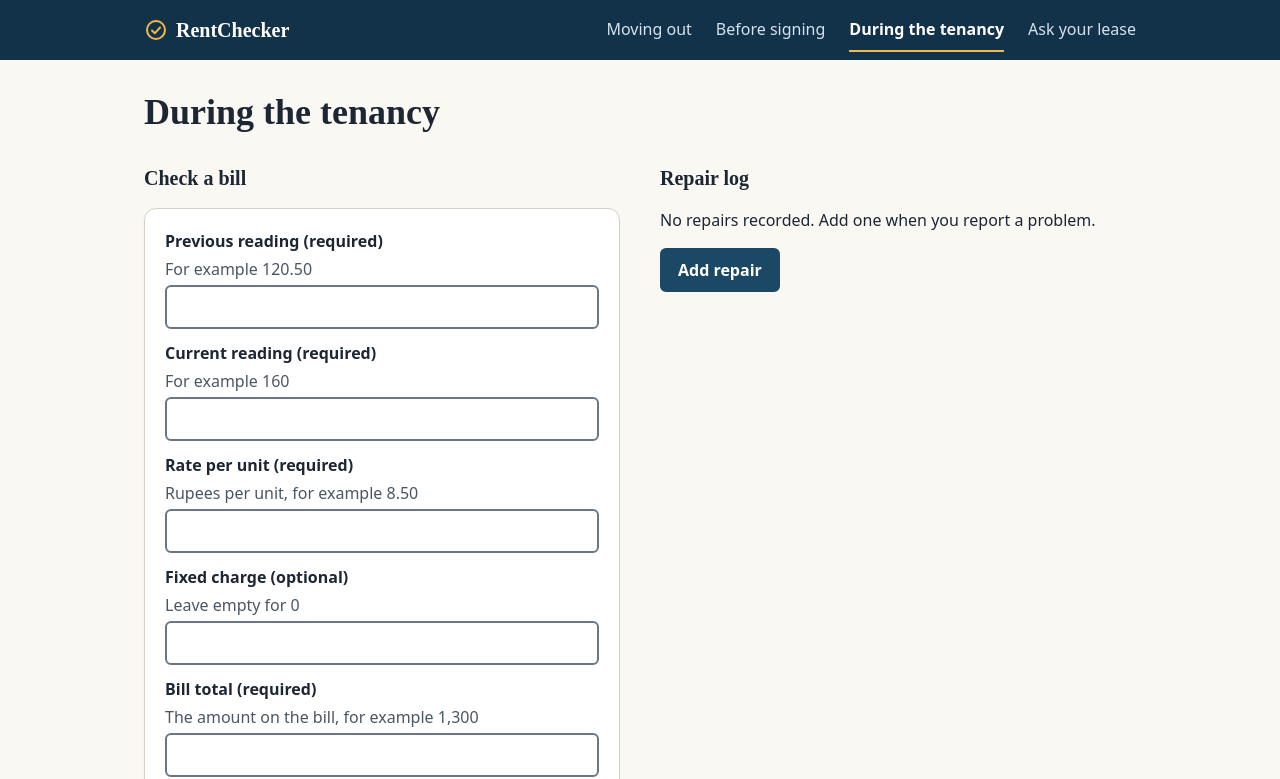
Repair log › D-5 a date that does not exist is rejected next to the field
Click the button "Add repair": (720, 270) [660,248,780,292]
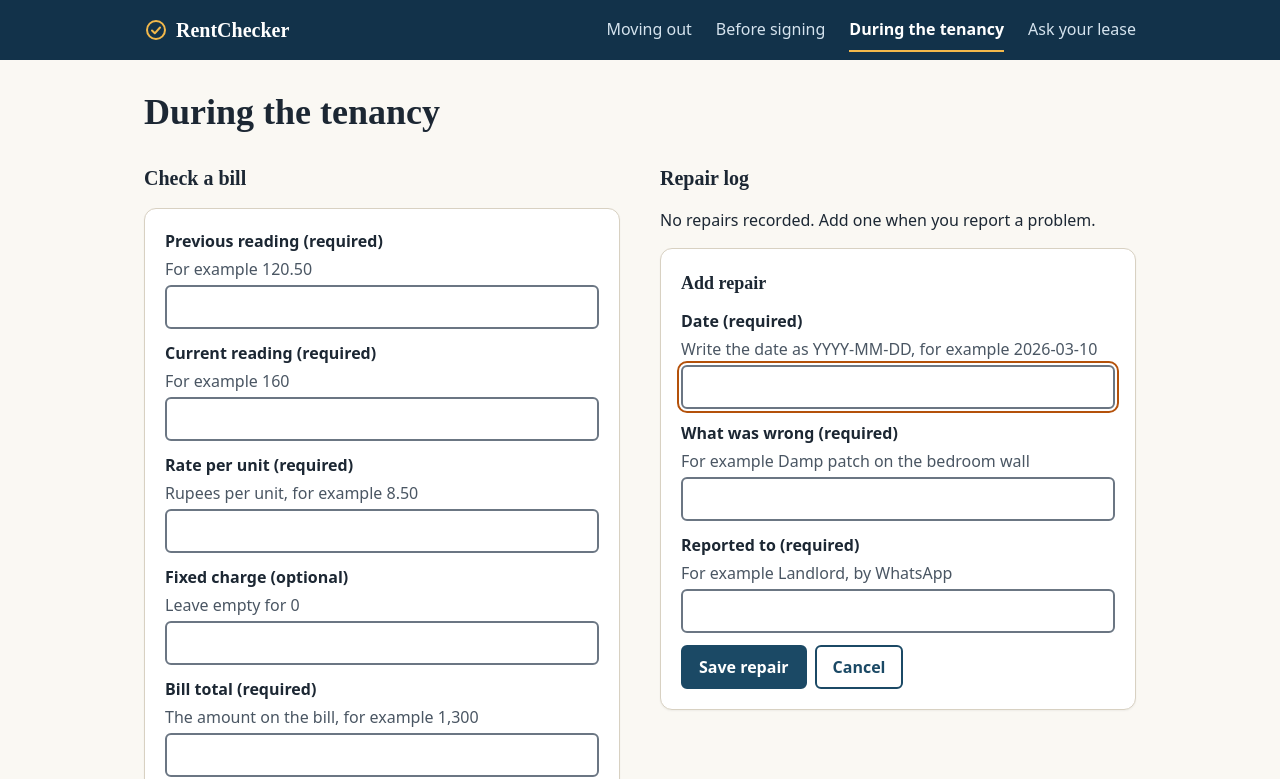
In the field labelled "Date (required)": (898, 387) [681,365,1115,409], type "2026-02-30"
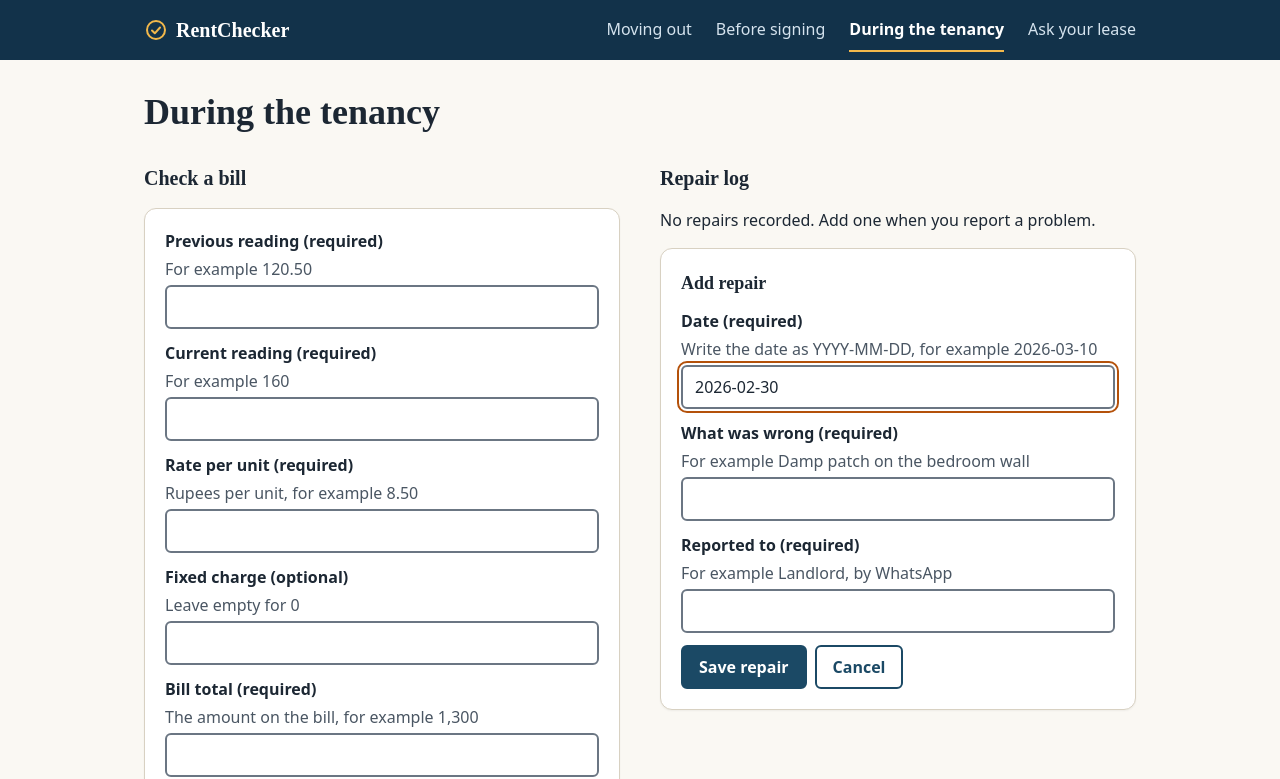
Click the button "Save repair": (744, 667) [681,645,806,689]
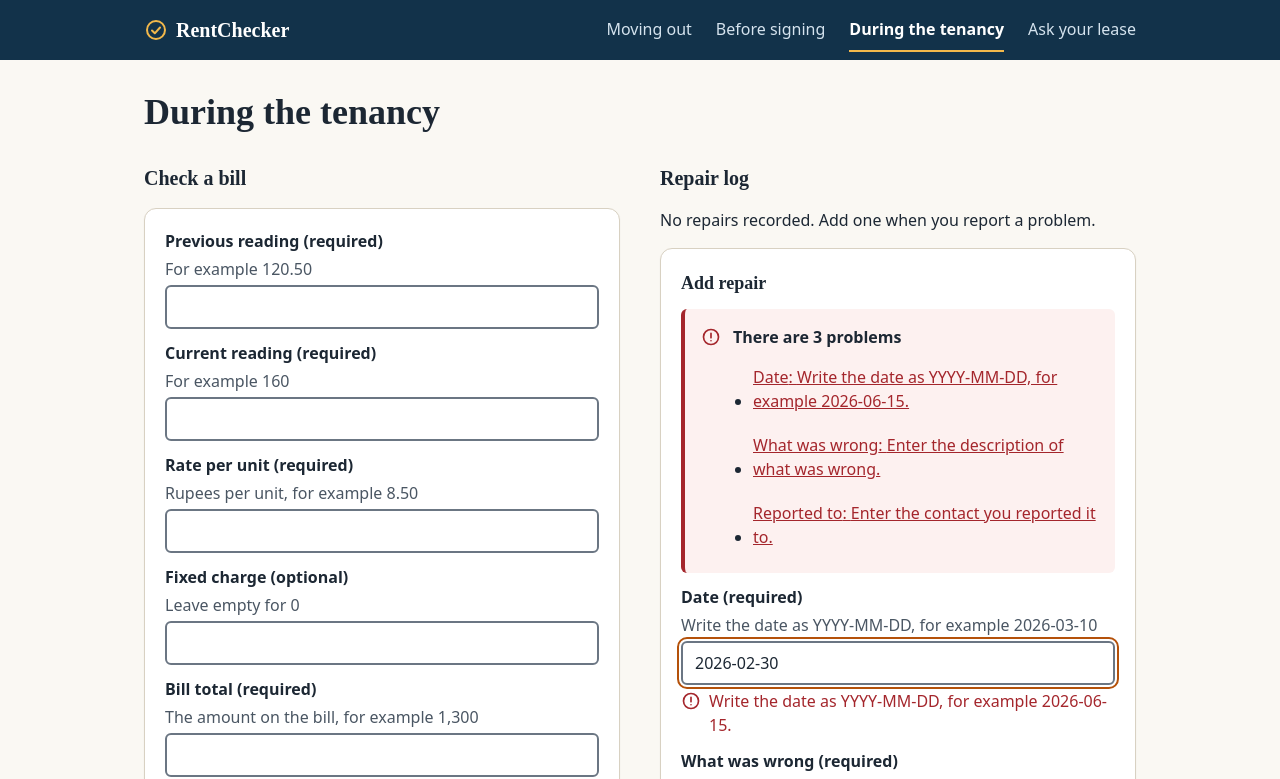
Result: the link "Date: Write the date as YYYY-MM-DD, for example 2026-06-15." is shown at [753,357,1099,421]
